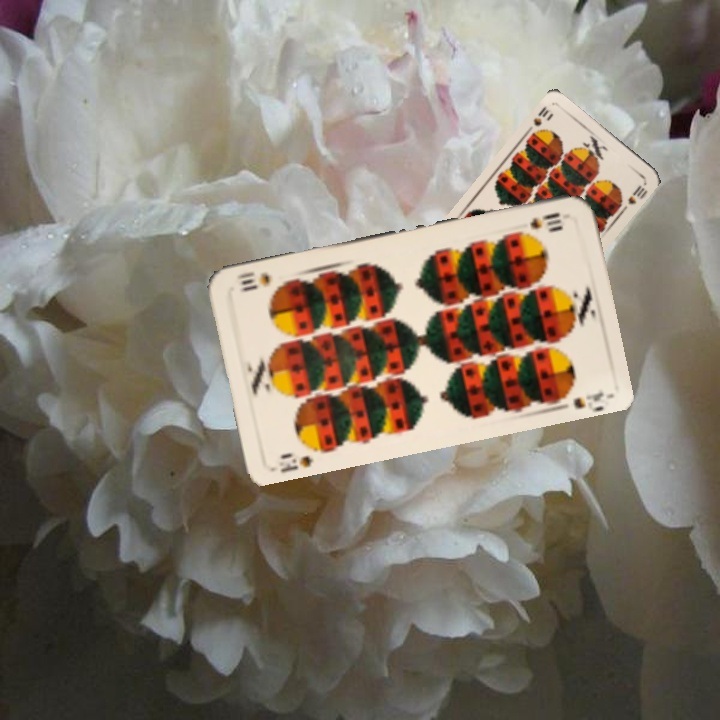S10: (268, 452, 316, 476), (523, 103, 552, 138), (526, 208, 564, 232)
